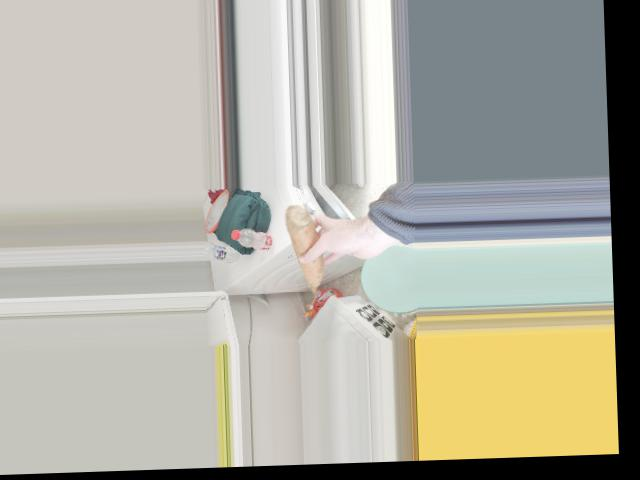sweet_potato: (290, 204, 319, 296)
